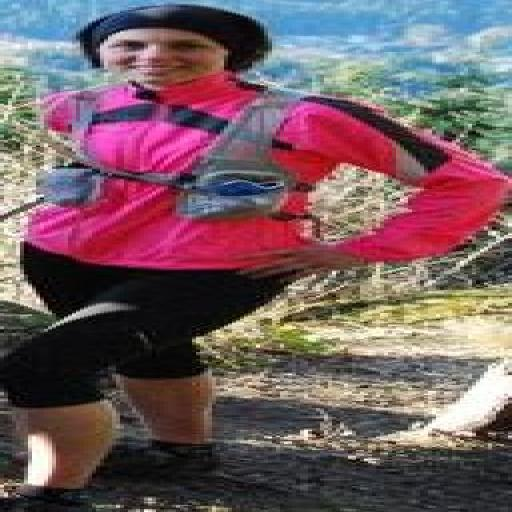person: (0, 94, 507, 511)
